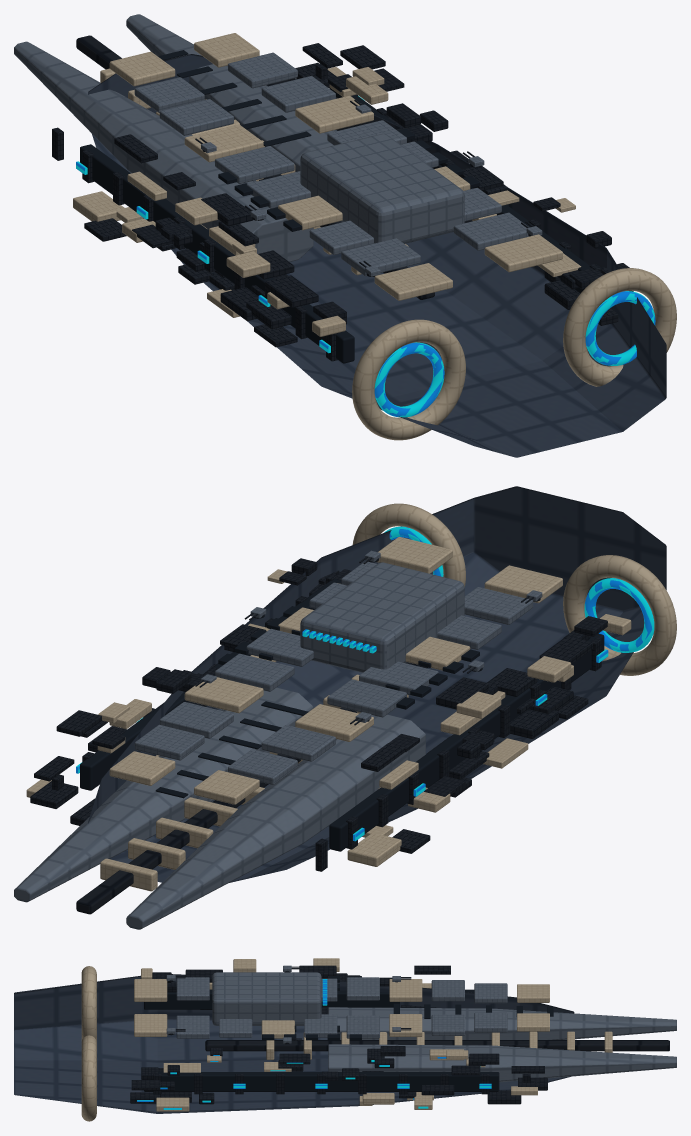
The model's file is aur-helix-destroyer.glb.
3 views of the same model, one above another, from view 1: azimuth 30°, elevation 25°; view 2: azimuth 150°, elevation 25°; view 3: azimuth 270°, elevation 25° (orthographic). The views are drawn at different scales.
Visible parts, largest first — view 1: Main_Hull, Prow_Prong_L, Bridge_Tower, Ring_Drive_L, Prow_Prong_R, Ring_Drive_R, Destroyer_Service_Trench_L, Ring_Drive_L_Inner, Destroyer_Dorsal_Plate_R_01, Destroyer_Dorsal_Plate_L_01, Destroyer_Dorsal_Plate_L_06, Destroyer_Dorsal_Plate_L_02 (+28 smaller); view 2: Main_Hull, Prow_Prong_L, Prow_Prong_R, Bridge_Tower, Ring_Drive_L, Destroyer_Service_Trench_L, Ring_Drive_R, Spinal_Rail, Destroyer_Service_Trench_R, Destroyer_Dorsal_Plate_L_06, Ring_Drive_L_Inner, Destroyer_Dorsal_Plate_R_06 (+31 smaller); view 3: Main_Hull, Prow_Prong_R, Prow_Prong_L, Bridge_Tower, Destroyer_Service_Trench_R, Spinal_Rail, Destroyer_Service_Trench_L, Ring_Drive_R, Ring_Drive_L, Destroyer_Dorsal_Plate_L_06, Destroyer_Dorsal_Plate_L_02, Destroyer_Dorsal_Plate_R_02 (+34 smaller).
Part boxes in pixels (x1,y1,x2,y2): Main_Hull: (88, 54, 666, 457); Prow_Prong_L: (14, 41, 313, 261); Bridge_Tower: (300, 133, 464, 243); Ring_Drive_L: (352, 319, 465, 440); Prow_Prong_R: (126, 14, 336, 171); Ring_Drive_R: (563, 268, 676, 386); Destroyer_Service_Trench_L: (80, 144, 354, 363); Ring_Drive_L_Inner: (374, 342, 444, 417); Destroyer_Dorsal_Plate_R_01: (484, 234, 562, 272); Destroyer_Dorsal_Plate_L_01: (374, 263, 452, 300); Destroyer_Dorsal_Plate_L_06: (215, 146, 294, 183); Destroyer_Dorsal_Plate_L_02: (341, 238, 420, 276); Main_Hull: (88, 486, 666, 882); Prow_Prong_L: (126, 714, 425, 929); Prow_Prong_R: (14, 687, 313, 902); Bridge_Tower: (300, 562, 464, 672); Ring_Drive_L: (563, 555, 676, 675); Destroyer_Service_Trench_L: (329, 633, 604, 851); Ring_Drive_R: (352, 503, 465, 586); Spinal_Rail: (76, 662, 427, 914); Destroyer_Service_Trench_R: (80, 579, 341, 790); Destroyer_Dorsal_Plate_L_06: (327, 679, 406, 717); Ring_Drive_L_Inner: (584, 578, 654, 652); Destroyer_Dorsal_Plate_R_06: (215, 653, 294, 691); Main_Hull: (14, 974, 574, 1113); Prow_Prong_R: (328, 1044, 676, 1082); Prow_Prong_L: (328, 1007, 676, 1039); Bridge_Tower: (212, 972, 321, 1025); Destroyer_Service_Trench_R: (144, 1072, 499, 1091); Spinal_Rail: (205, 1040, 669, 1051); Destroyer_Service_Trench_L: (144, 989, 474, 1009); Ring_Drive_R: (81, 1035, 96, 1121); Ring_Drive_L: (81, 966, 96, 1042); Destroyer_Dorsal_Plate_L_06: (346, 977, 379, 1000); Destroyer_Dorsal_Plate_L_02: (176, 977, 209, 1000); Destroyer_Dorsal_Plate_R_02: (176, 1015, 209, 1038).
Bounding box in the file's own units: 168 × 73.18 × 436.
6 materials, 5 textured.
